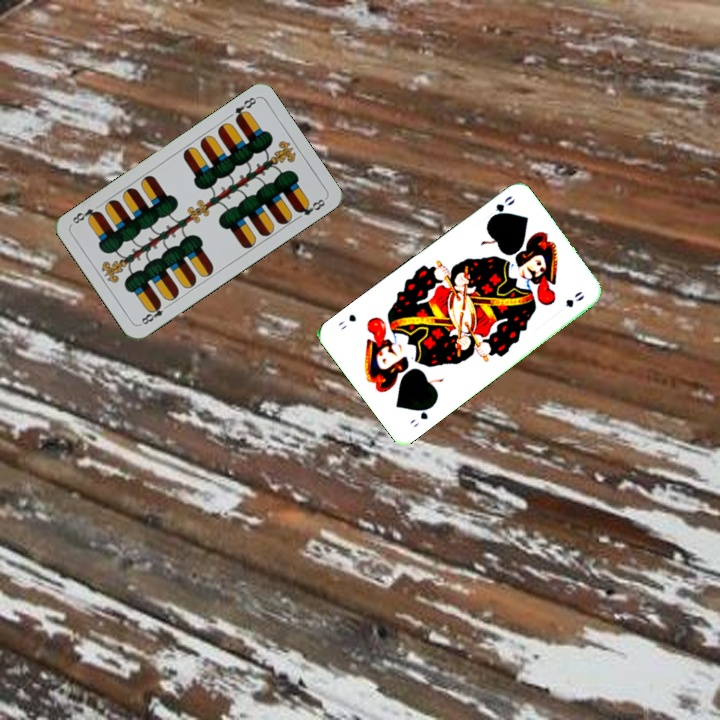E8: (136, 299, 172, 328), (230, 93, 259, 124)
GO: (484, 192, 518, 224), (405, 400, 436, 430)
